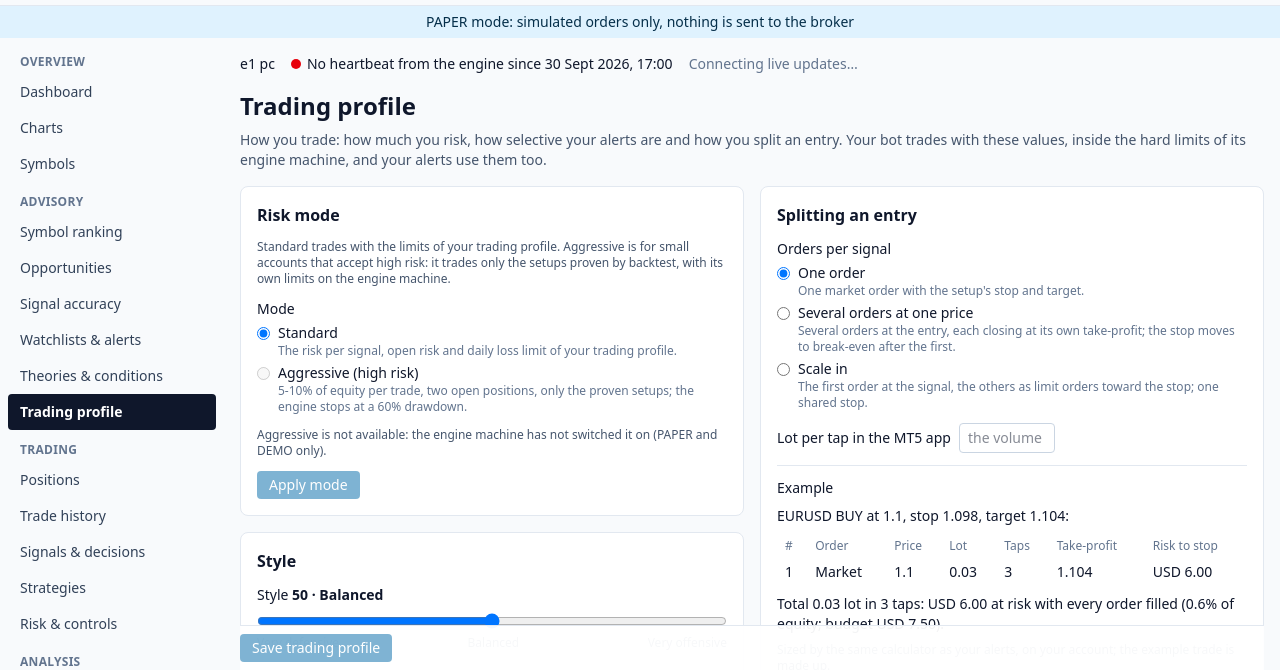
trading profile page › shows what the engine trades with and when it has not picked up a save yet
The width and height of the screenshot is (1280, 670).
Set the slider labelled "Style 50 · Balanced" to "100" at (719, 621), box [257,613,727,629]
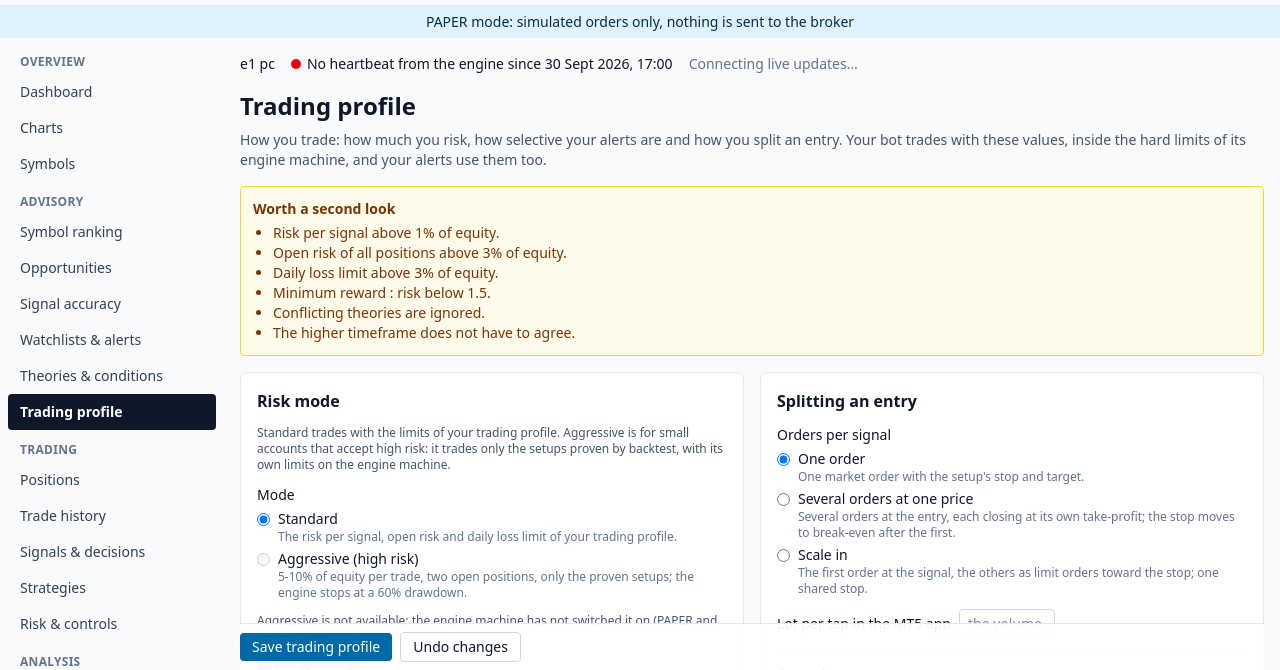
Click the button "Save trading profile" at (316, 647), box [240,633,392,661]
(page scrolled)
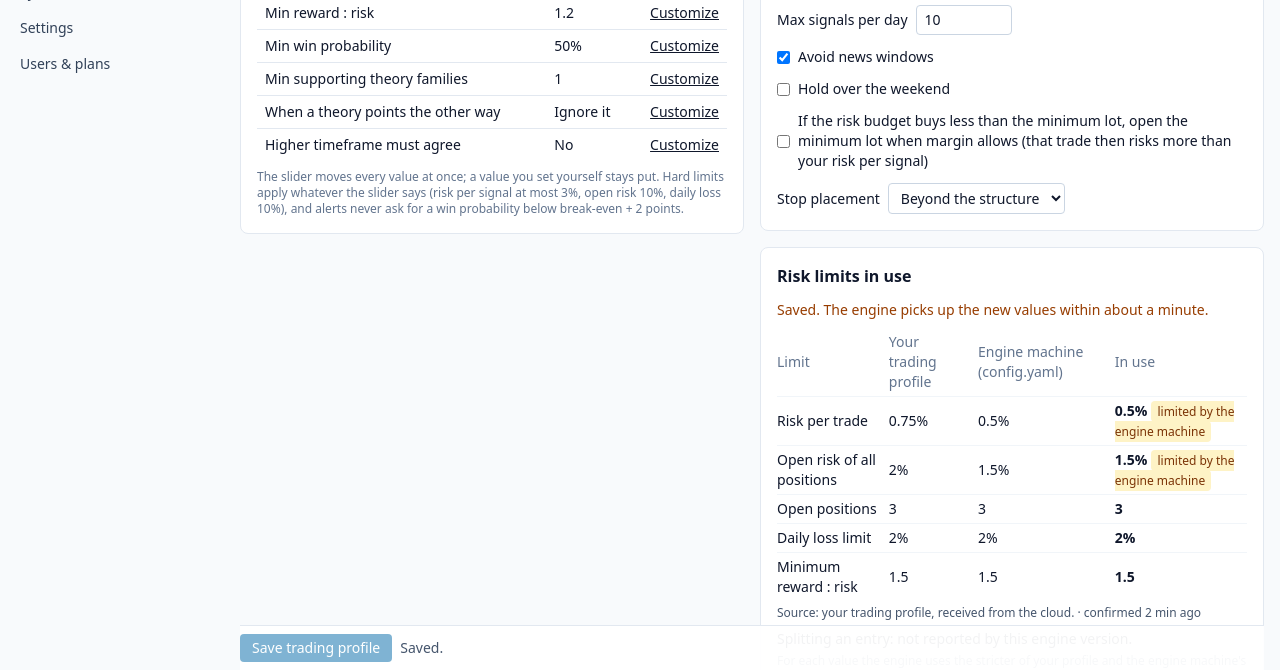
Now the message "Saved. The engine picks up the new values within about a minute." is shown, box [777,300,1247,320]
